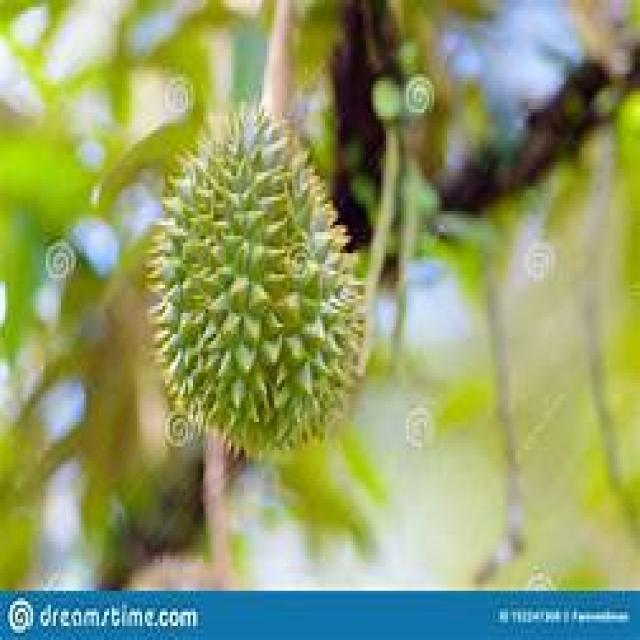immature: (145, 106, 362, 459)
